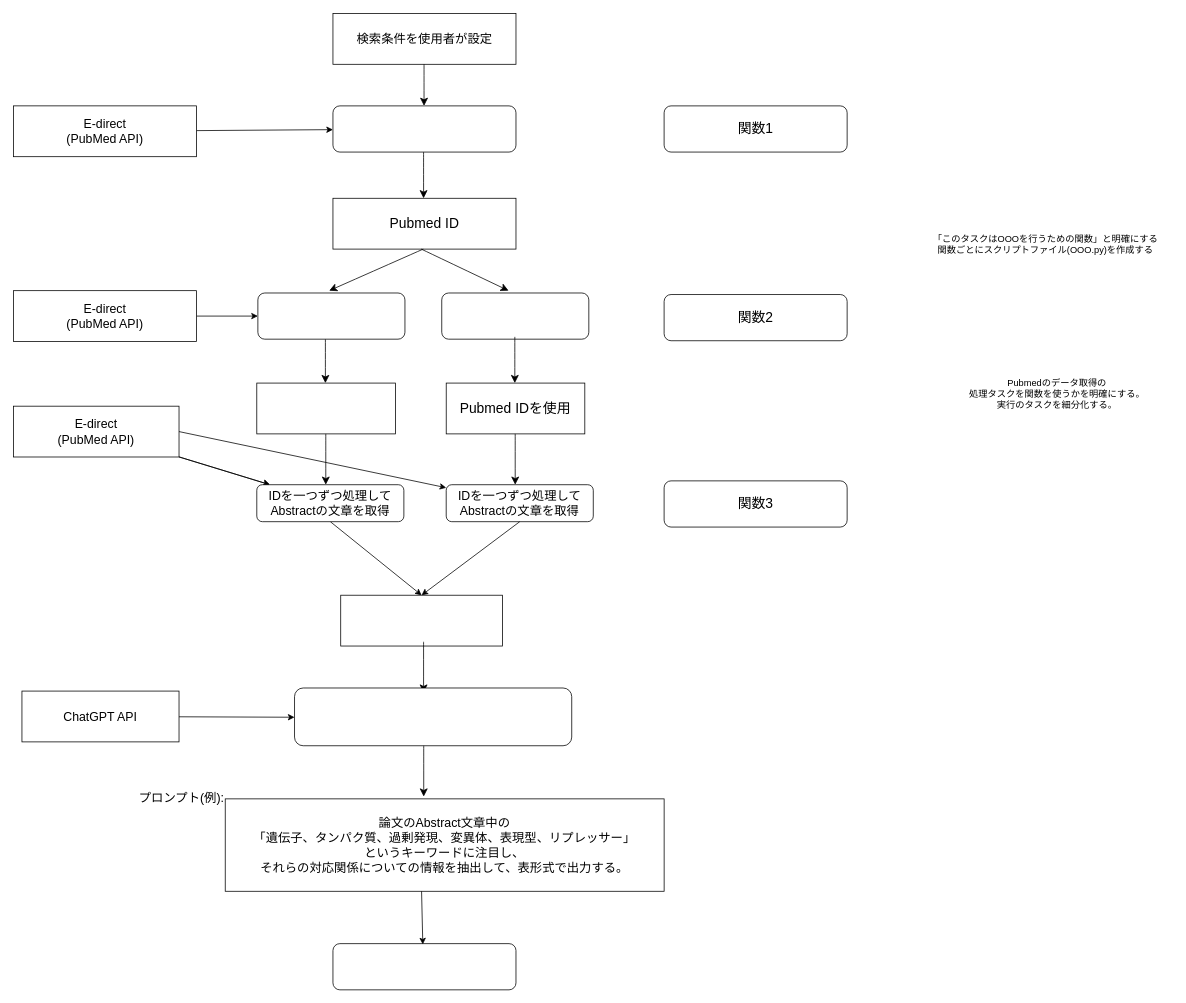
The diagram is 1186 pixels wide and 1003 high, and some of its shapes have lost their labels. Here are the shapes that lost their labels. From the top down, the centre of each, then its label:
At point 424,128: "Pubmed IDを取得する".
At point 331,315: "PMC IDがあるもの: Pubmed IDを PMC IDに変換".
At point 515,315: "PMC IDがないもの: Pubmed IDで処理".
At point 325,408: "PMC IDを使用".
At point 421,620: "論文ごとに取得された Abstractの文章".
At point 433,716: "ChatGPT APIを用いてAbstarctの内容を 要約して、表形式で出力".
At point 424,966: "論文ごとに表形式の ファイルが出力される".
